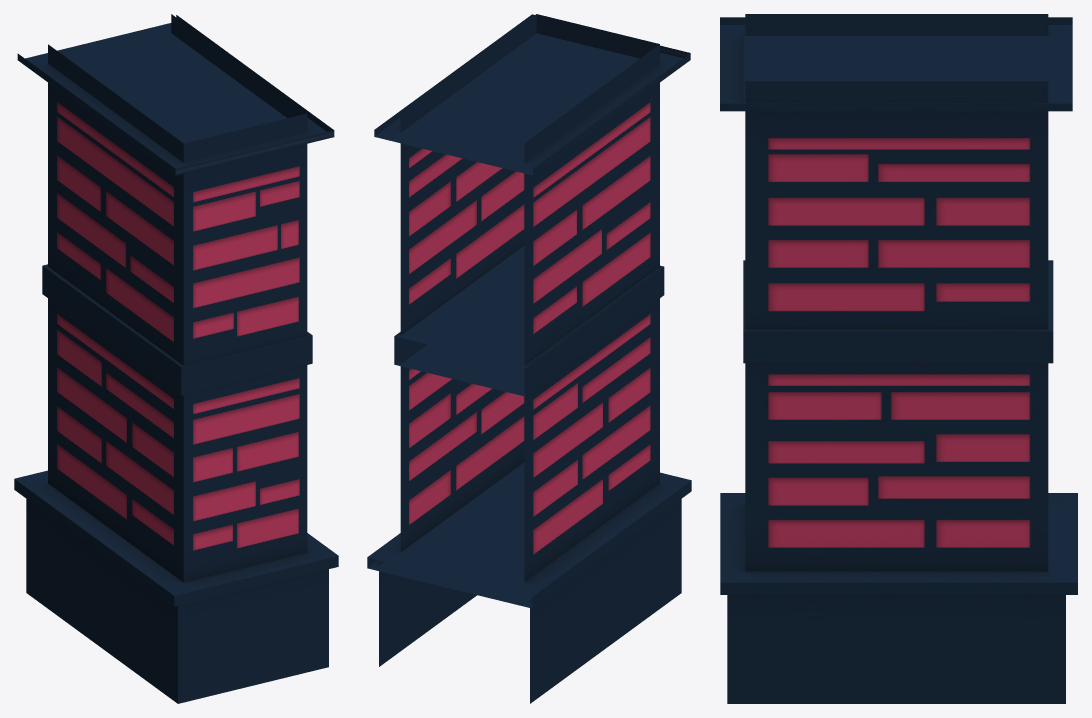
The model's file is Building 03.fbx.
3 renders of one model, left to right at view 1: azimuth 30°, elevation 25°; view 2: azimuth 150°, elevation 25°; view 3: azimuth 270°, elevation 25°, orthographic. The views are drawn at different scales.
Parts seen in each view (by area): view 1: Building_0003; view 2: Building_0003; view 3: Building_0003.
Part boxes in pixels (x1,y1,x2,y2): Building_0003: [14, 14, 338, 703]; Building_0003: [367, 14, 691, 703]; Building_0003: [720, 14, 1077, 703].
Bounding box in the file's own units: 5.03 × 16.1 × 8.48.
